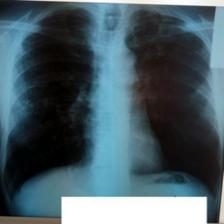tuberculosis: (1, 2, 222, 218)
